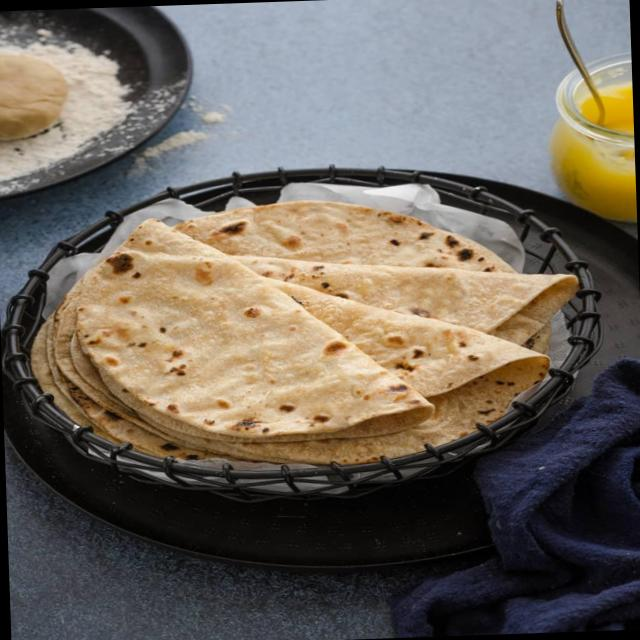roti: (73, 218, 427, 441), (244, 282, 555, 465), (243, 255, 581, 347), (170, 205, 510, 270)
